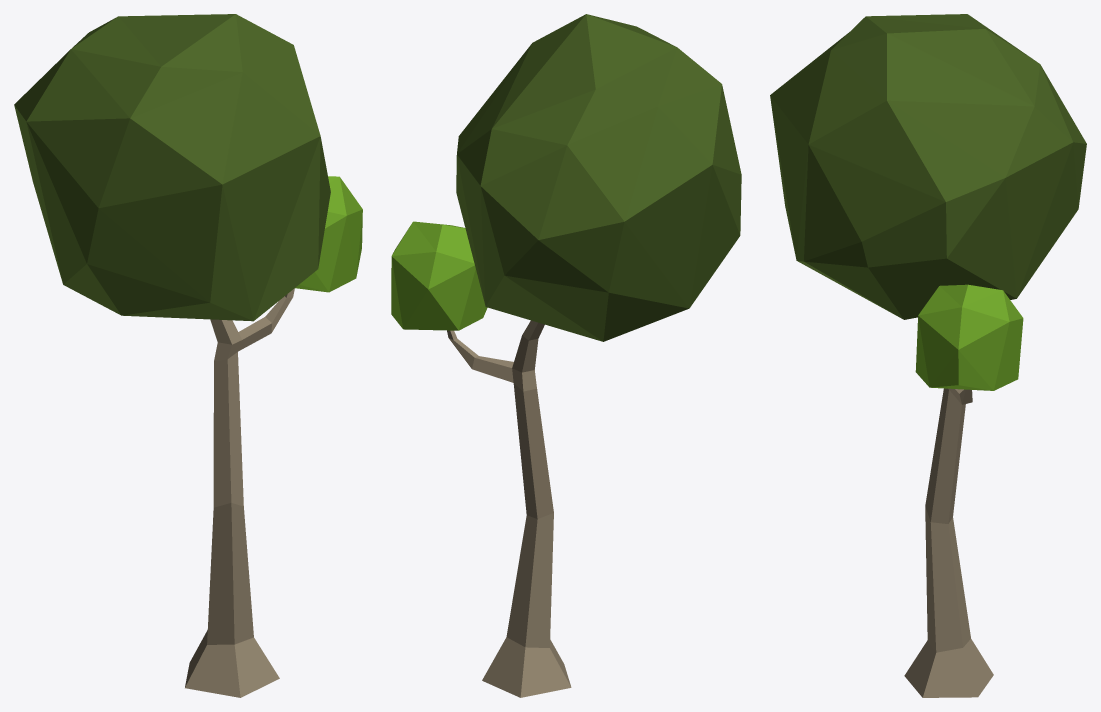
Rendered from SM_Tree_03.fbx.
3 views of the same model, side by side, from view 1: azimuth 30°, elevation 25°; view 2: azimuth 150°, elevation 25°; view 3: azimuth 270°, elevation 25° (orthographic). The views are drawn at different scales.
Visible parts, largest first — view 1: SM_Tree_03; view 2: SM_Tree_03; view 3: SM_Tree_03.
Part boxes in pixels (<box>): SM_Tree_03: <box>14,14,362,697</box>; SM_Tree_03: <box>391,14,741,697</box>; SM_Tree_03: <box>770,14,1086,697</box>.
Bounding box in the file's own units: 285 × 252 × 559.
Materials: 3 (3 with a texture image).
